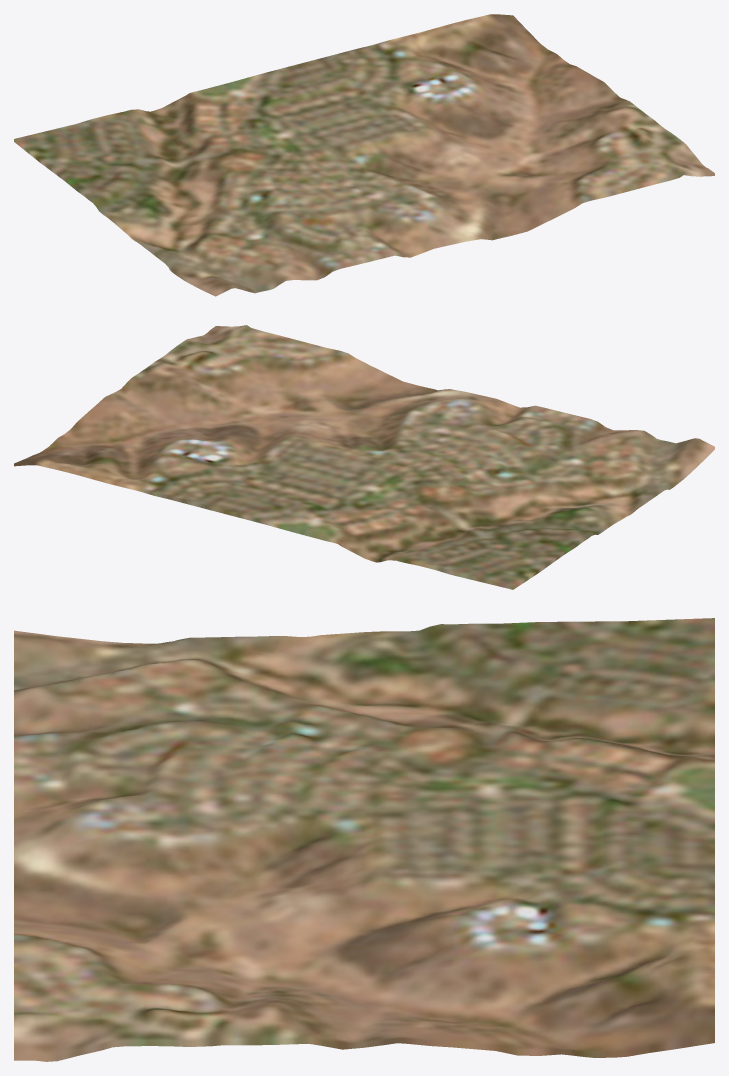
The model's file is terrain_r4_c2_lod1.glb.
The picture shows the model from 3 angles, top to bottom: view 1: azimuth 30°, elevation 25°; view 2: azimuth 150°, elevation 25°; view 3: azimuth 270°, elevation 25°; orthographic projection. The views are drawn at different scales.
Parts seen in each view (by area): view 1: terrain_r4_c2_lod1; view 2: terrain_r4_c2_lod1; view 3: terrain_r4_c2_lod1.
Part boxes in pixels (x1,y1,x2,y2): terrain_r4_c2_lod1: [14, 14, 714, 296]; terrain_r4_c2_lod1: [14, 325, 714, 589]; terrain_r4_c2_lod1: [14, 618, 714, 1061].
Size of the model in its own units: 1125 by 64.69 by 787.
1 material, 1 textured.
